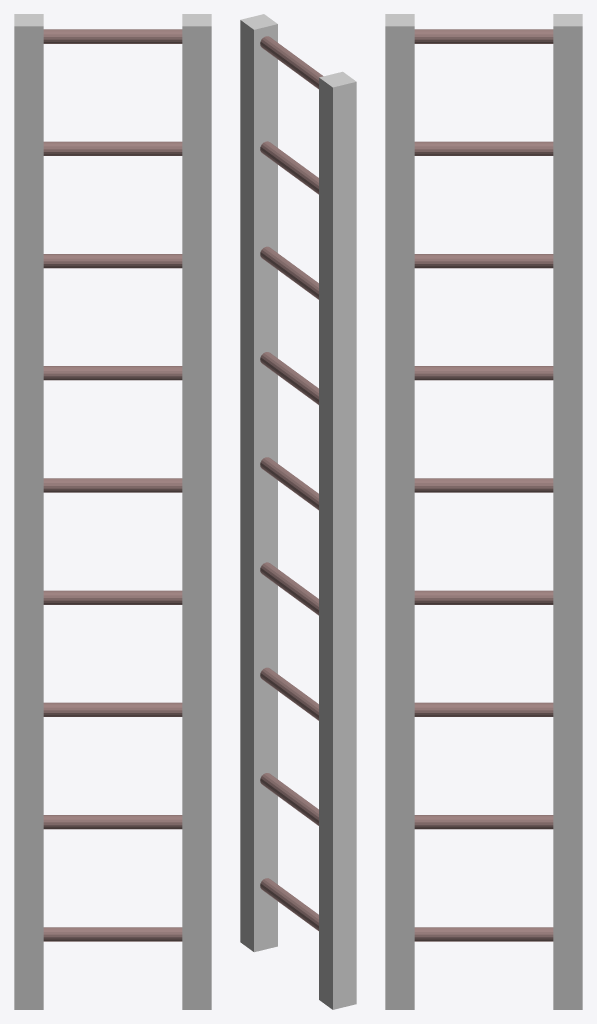
File: Ladder.fbx
3 views of the same model, side by side, from view 1: azimuth 90°, elevation 25°; view 2: azimuth 210°, elevation 25°; view 3: azimuth 270°, elevation 25° (orthographic). The views are drawn at different scales.
Parts seen in each view (by area): view 1: Rungs; view 2: Rungs; view 3: Rungs.
Part boxes in pixels (box(x1,y1,x2,y2)): Rungs: box(14, 14, 211, 1009); Rungs: box(240, 14, 356, 1009); Rungs: box(385, 14, 582, 1009).
Size of the model in its own units: 200 by 7400 by 1346.
